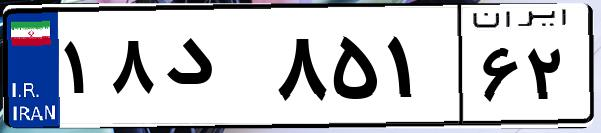1: (385, 28, 445, 110), (57, 26, 110, 100)
2: (525, 38, 570, 115)
5: (330, 28, 385, 110)
6: (475, 38, 525, 113)
8: (270, 28, 330, 110), (110, 28, 158, 98)
د: (158, 20, 270, 120)
